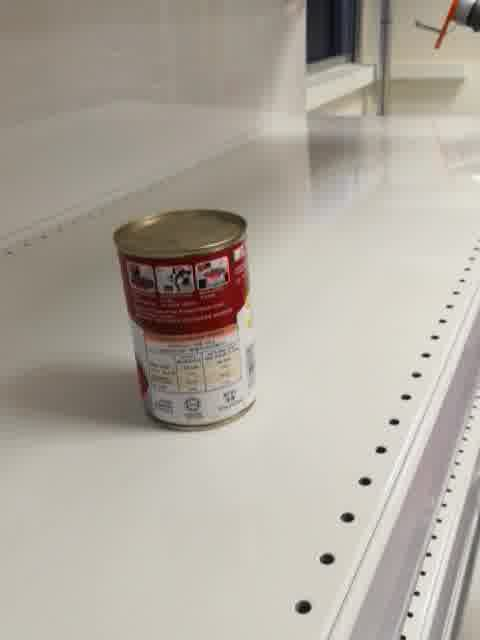tomatosoup: (111, 203, 258, 436)
